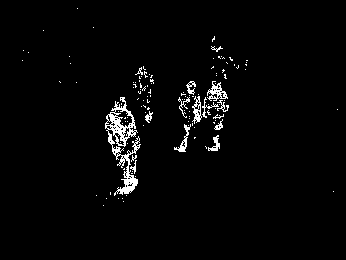person: (105, 95, 140, 198), (203, 79, 230, 154), (177, 79, 201, 155)
